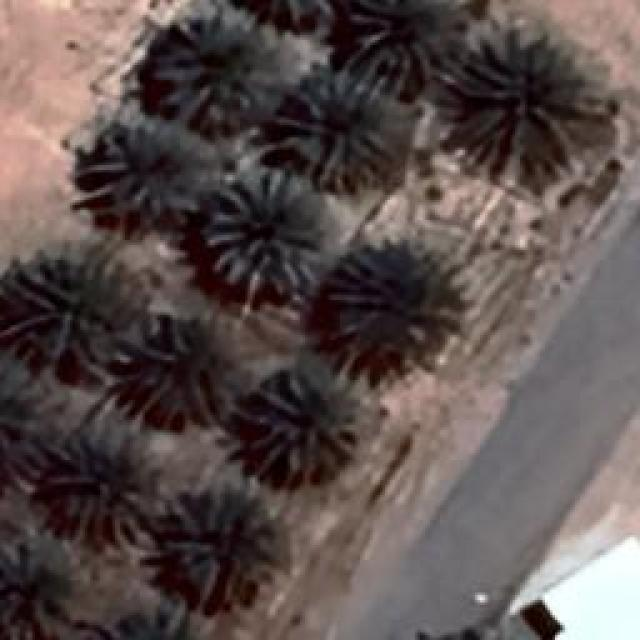PalmTree: (36, 41, 401, 598), (330, 230, 445, 372), (152, 12, 292, 128), (200, 167, 325, 295), (165, 480, 288, 605), (275, 62, 395, 190), (455, 32, 583, 150), (2, 255, 130, 368), (125, 312, 247, 430), (48, 415, 160, 543), (85, 112, 215, 222), (245, 365, 360, 480), (0, 351, 50, 487), (84, 604, 214, 640), (232, 0, 352, 24)
